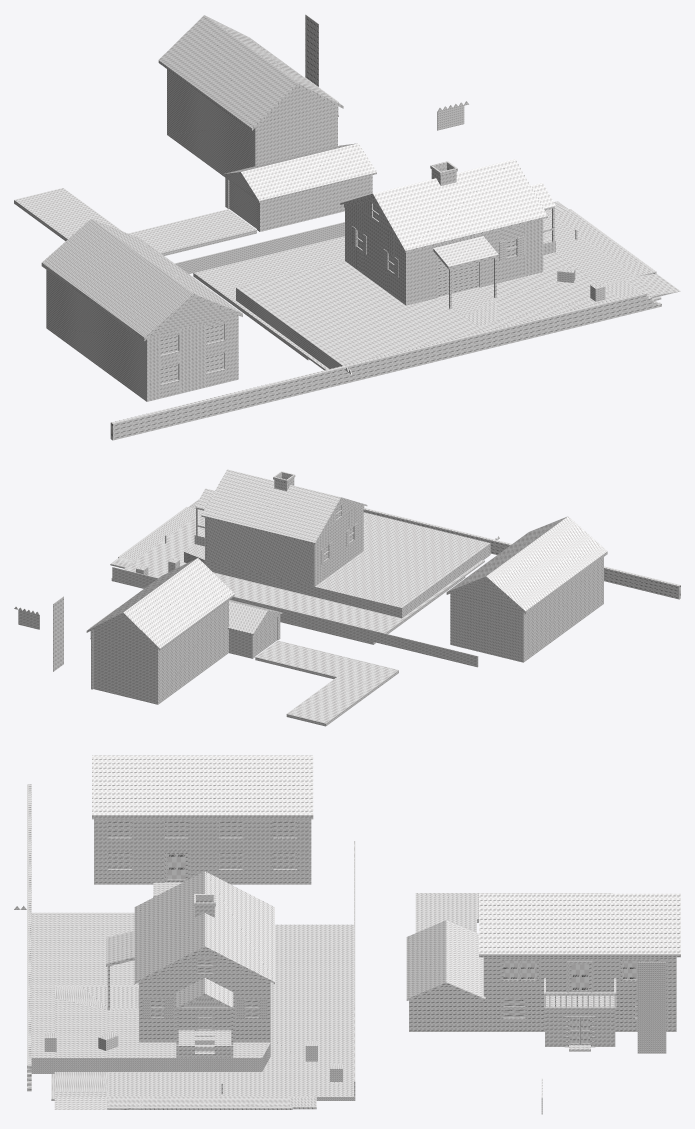
Rendered from simpson-blockc.obj.
The picture shows the model from 3 angles, top to bottom: view 1: azimuth 30°, elevation 25°; view 2: azimuth 150°, elevation 25°; view 3: azimuth 270°, elevation 25°; orthographic projection. The views are drawn at different scales.
Parts seen in each view (by area): view 1: entity0_brush150, entity0_brush341, entity0_brush13, entity0_brush334, entity0_brush200, entity0_brush138, entity0_brush146, entity0_brush202, entity0_brush106, entity0_brush350, entity0_brush105, entity0_brush351 (+22 smaller); view 2: entity0_brush150, entity0_brush13, entity0_brush202, entity0_brush333, entity0_brush146, entity0_brush200, entity0_brush138, entity0_brush215, entity0_brush351, entity0_brush0, entity0_brush350, entity0_brush341 (+12 smaller); view 3: entity0_brush146, entity0_brush201, entity0_brush139, entity0_brush150, entity0_brush334, entity0_brush333, entity0_brush309, entity0_brush1, entity0_brush105, entity0_brush356, entity0_brush297, entity0_brush106 (+25 smaller).
Part boxes in pixels (box(x1,y1,x2,y2)): entity0_brush150: box(236, 261, 483, 368); entity0_brush341: box(110, 293, 642, 440); entity0_brush13: box(167, 69, 336, 177); entity0_brush334: box(373, 159, 547, 252); entity0_brush200: box(41, 219, 193, 341); entity0_brush138: box(158, 15, 297, 130); entity0_brush146: box(193, 212, 634, 360); entity0_brush202: box(46, 270, 145, 400); entity0_brush106: box(241, 143, 376, 202); entity0_brush350: box(128, 209, 256, 255); entity0_brush105: box(261, 175, 372, 231); entity0_brush351: box(14, 188, 122, 241); entity0_brush150: box(289, 516, 490, 618); entity0_brush13: box(93, 600, 228, 704); entity0_brush202: box(451, 558, 603, 662); entity0_brush333: box(201, 469, 341, 544); entity0_brush146: box(111, 511, 465, 644); entity0_brush200: box(486, 516, 607, 613); entity0_brush138: box(123, 558, 234, 650); entity0_brush215: box(206, 518, 313, 586); entity0_brush351: box(286, 660, 398, 726); entity0_brush0: box(112, 567, 478, 667); entity0_brush350: box(255, 640, 359, 679); entity0_brush341: box(363, 508, 680, 599); entity0_brush146: box(107, 924, 355, 1100); entity0_brush201: box(92, 755, 313, 819); entity0_brush139: box(479, 893, 680, 957); entity0_brush150: box(31, 912, 138, 986); entity0_brush334: box(134, 871, 204, 983); entity0_brush333: box(205, 871, 274, 983); entity0_brush309: box(107, 1009, 270, 1071); entity0_brush1: box(54, 998, 107, 1071); entity0_brush105: box(409, 984, 483, 1031); entity0_brush356: box(637, 962, 666, 1053); entity0_brush297: box(165, 974, 244, 1042); entity0_brush106: box(406, 920, 446, 1000).
Size of the model in its own units: 2704 by 504 by 2432.
